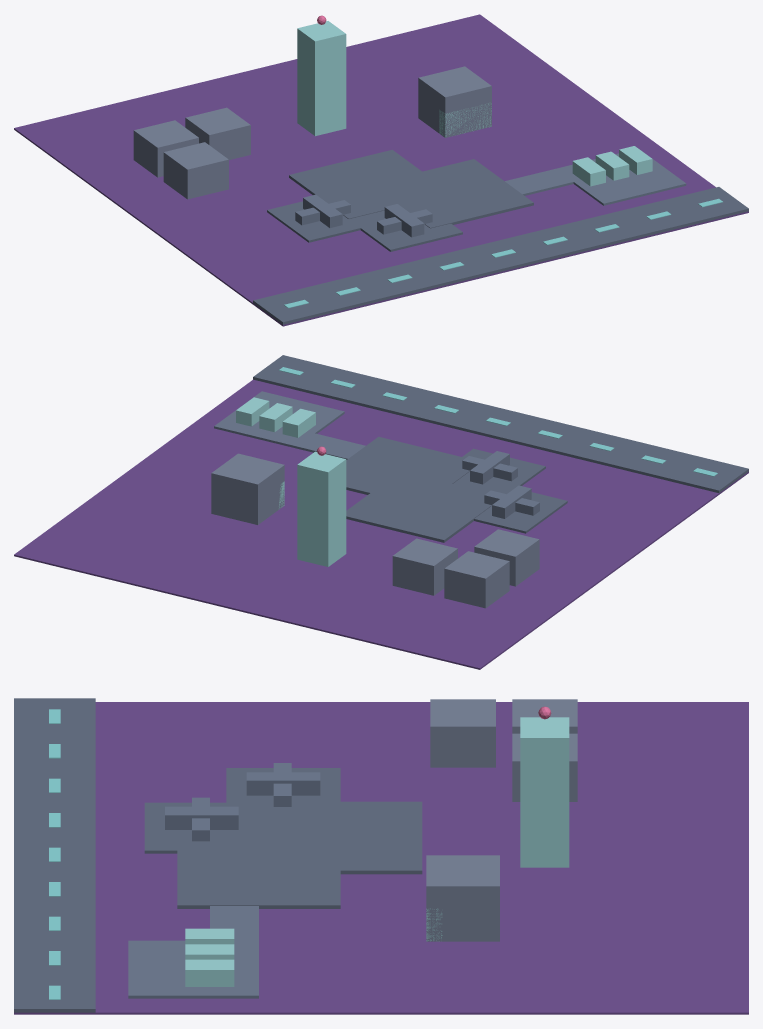
File: stage_11.glb
3 views of the same model, one above another, from view 1: azimuth 30°, elevation 25°; view 2: azimuth 150°, elevation 25°; view 3: azimuth 270°, elevation 25° (orthographic). The views are drawn at different scales.
Parts seen in each view (by area): view 1: geometry_0; view 2: geometry_0; view 3: geometry_0.
Part boxes in pixels (left/top/right/bottom): geometry_0: left=14, top=14, right=748, bottom=326; geometry_0: left=14, top=355, right=748, bottom=669; geometry_0: left=14, top=698, right=748, bottom=1014.
Bounding box in the file's own units: 9 × 2.06 × 9.
